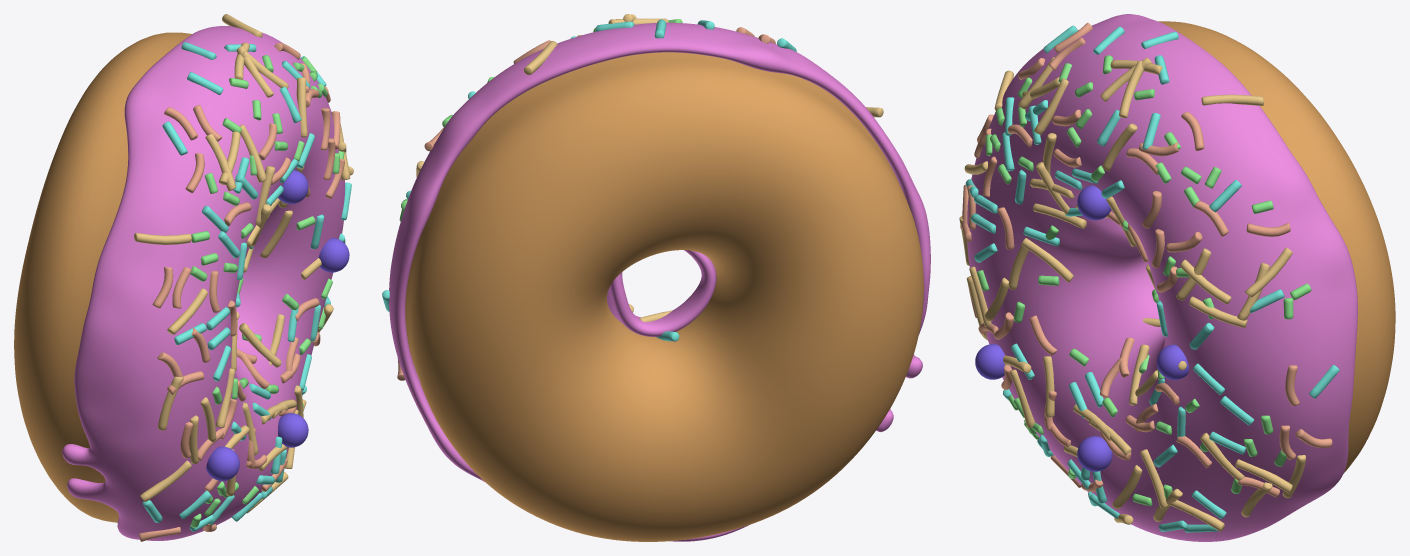
Rendered from donut.gltf.
3 renders of one model, left to right at view 1: azimuth 30°, elevation 25°; view 2: azimuth 150°, elevation 25°; view 3: azimuth 270°, elevation 25°, orthographic. The views are drawn at different scales.
Visible parts, largest first — view 1: Icing, Donut, Sphere.003, Sphere, Sphere.002, Sphere.001, Sprinkle.166, Sprinkle.014, Sprinkle.011, Sprinkle.157, Sprinkle.099, Sprinkle.126 (+7 smaller); view 2: Donut, Icing; view 3: Icing, Donut, Sphere, Sphere.003, Sphere.001, Sphere.002, Sprinkle.013, Sprinkle.081, Sprinkle.180, Sprinkle.129, Sprinkle.086, Sprinkle.141 (+6 smaller).
Boxes of the visible parts, x1,y1,x2,y2 form: Icing: [62, 26, 344, 540]; Donut: [14, 32, 191, 522]; Sphere.003: [206, 446, 239, 481]; Sphere: [278, 413, 308, 447]; Sphere.002: [318, 238, 349, 272]; Sphere.001: [278, 170, 308, 204]; Sprinkle.166: [134, 233, 191, 244]; Sprinkle.014: [140, 460, 191, 501]; Sprinkle.011: [239, 323, 281, 367]; Sprinkle.157: [167, 288, 207, 334]; Sprinkle.099: [205, 134, 235, 191]; Sprinkle.126: [296, 77, 307, 137]; Donut: [405, 52, 923, 541]; Icing: [389, 22, 930, 541]; Icing: [967, 14, 1357, 541]; Donut: [1158, 21, 1395, 473]; Sphere: [1077, 436, 1112, 471]; Sphere.003: [975, 344, 1005, 379]; Sphere.001: [1077, 185, 1111, 220]; Sphere.002: [1157, 344, 1188, 380]; Sprinkle.013: [1201, 94, 1263, 105]; Sprinkle.081: [1245, 247, 1292, 297]; Sprinkle.180: [1021, 238, 1073, 282]; Sprinkle.129: [1189, 296, 1247, 327]; Sprinkle.086: [1180, 259, 1231, 304]; Sprinkle.141: [1235, 459, 1292, 493].
Size of the model in its own units: 0.0883 by 0.1014 by 0.0816.
Materials: 7 (1 with a texture image).
